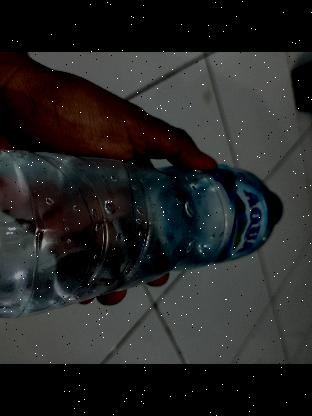Plastic Bottle: (0, 134, 290, 326)
